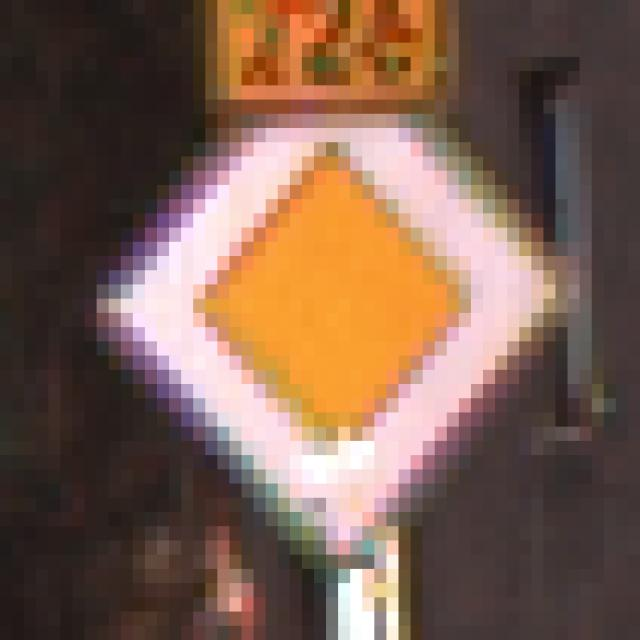Main Road: (62, 86, 581, 556)
